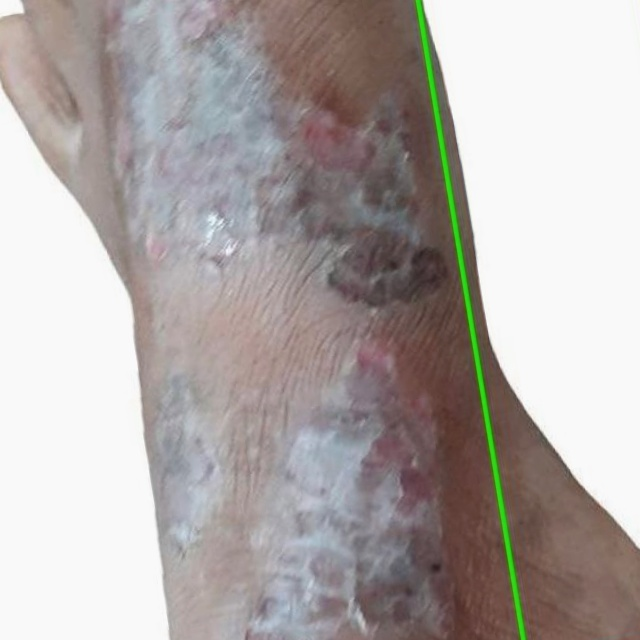Contact Dermatitis: (417, 0, 639, 639)
